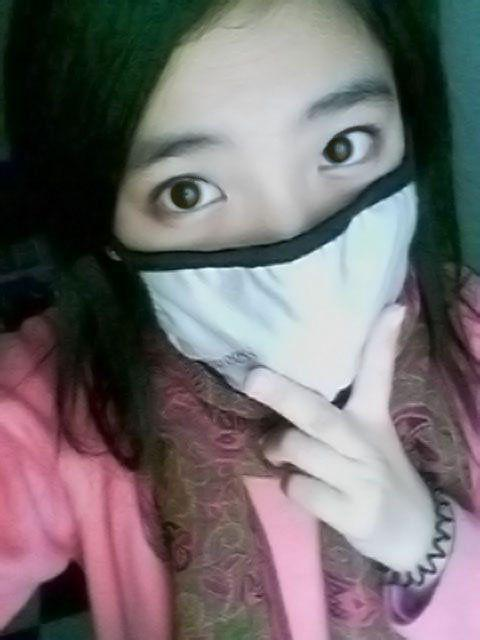OK: (109, 69, 426, 419)
